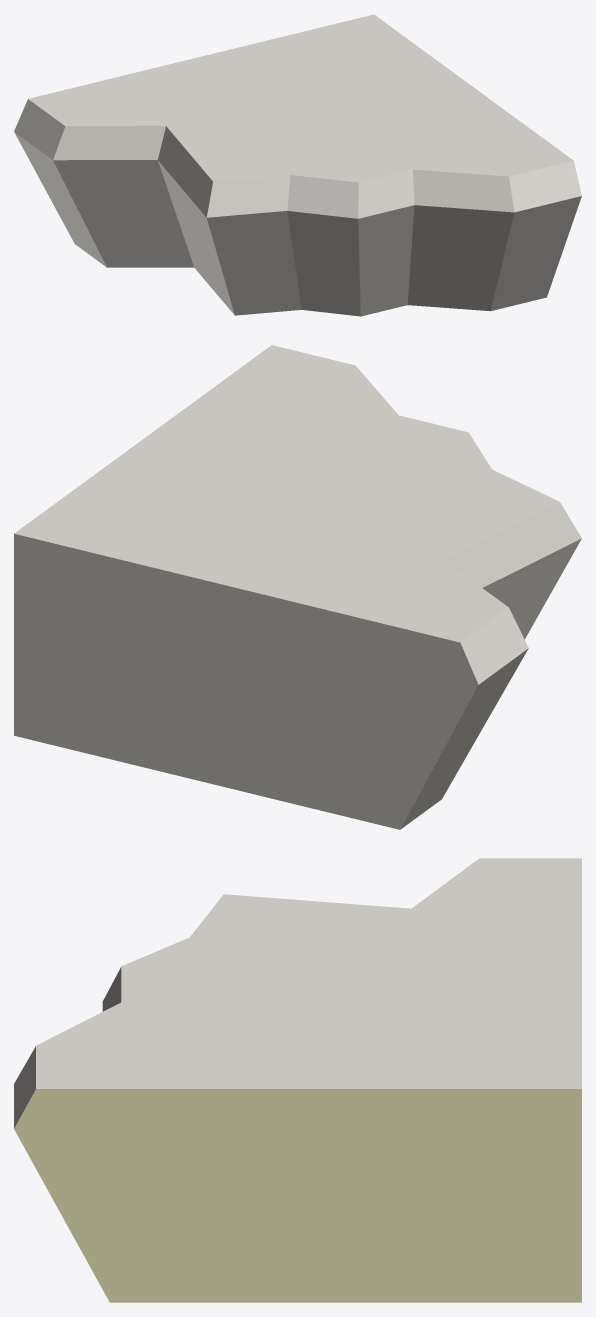
The model's file is Cracked_Curve_Outer_3x3_2_Top.fbx.
3 renders of one model, top to bottom at view 1: azimuth 30°, elevation 25°; view 2: azimuth 150°, elevation 25°; view 3: azimuth 270°, elevation 25°, orthographic. The views are drawn at different scales.
Visible parts, largest first — view 1: Cracked_Curve_Outer_3x3_2_Top; view 2: Cracked_Curve_Outer_3x3_2_Top; view 3: Cracked_Curve_Outer_3x3_2_Top.
Part boxes in pixels (bbox=[...]): Cracked_Curve_Outer_3x3_2_Top: bbox=[14, 14, 581, 316]; Cracked_Curve_Outer_3x3_2_Top: bbox=[14, 345, 581, 829]; Cracked_Curve_Outer_3x3_2_Top: bbox=[14, 858, 581, 1302].
Size of the model in its own units: 241 by 100 by 241.
